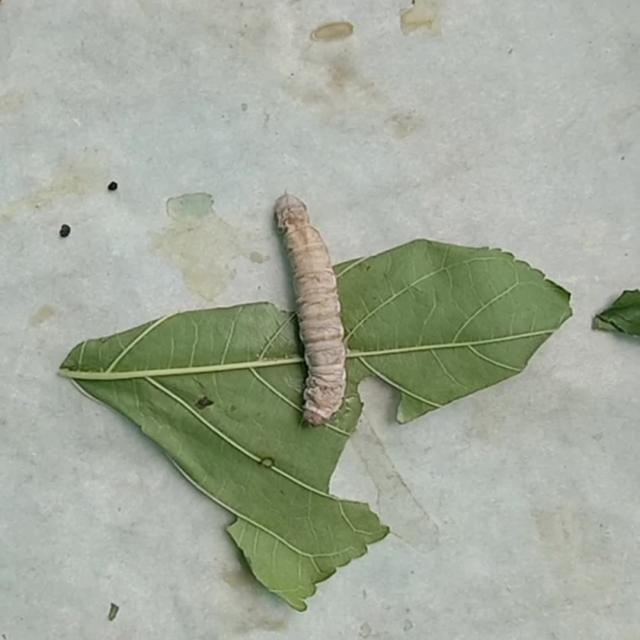Grasserie: (233, 162, 374, 508)
